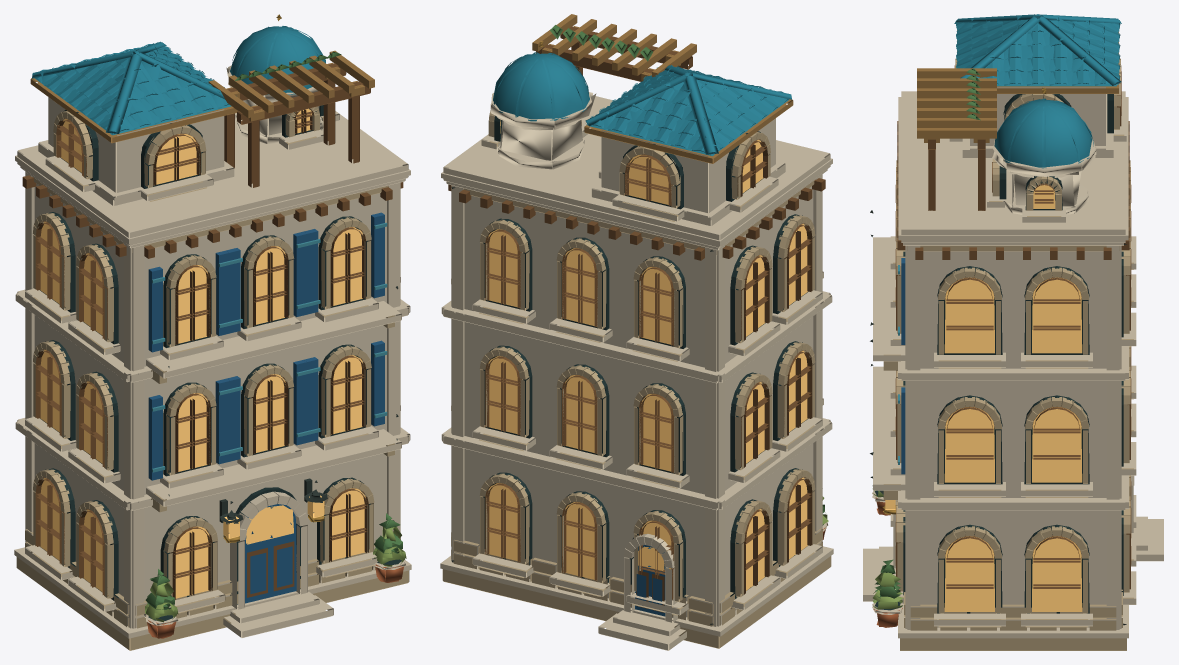
3 views of the same model, side by side, from view 1: azimuth 30°, elevation 25°; view 2: azimuth 150°, elevation 25°; view 3: azimuth 270°, elevation 25° (orthographic).
Visible parts, largest first — view 1: harbor_villa_3_geometry, harbor_villa_3_geometry ceramic; view 2: harbor_villa_3_geometry, harbor_villa_3_geometry ceramic; view 3: harbor_villa_3_geometry, harbor_villa_3_geometry ceramic.
Boxes of the visible parts, x1,y1,x2,y2 form: harbor_villa_3_geometry: [14, 14, 411, 650]; harbor_villa_3_geometry ceramic: [32, 26, 387, 472]; harbor_villa_3_geometry: [440, 14, 833, 650]; harbor_villa_3_geometry ceramic: [493, 52, 791, 155]; harbor_villa_3_geometry: [863, 30, 1163, 650]; harbor_villa_3_geometry ceramic: [898, 14, 1121, 464].
Bounding box in the file's own units: 0.99 × 1.69 × 0.8667.
